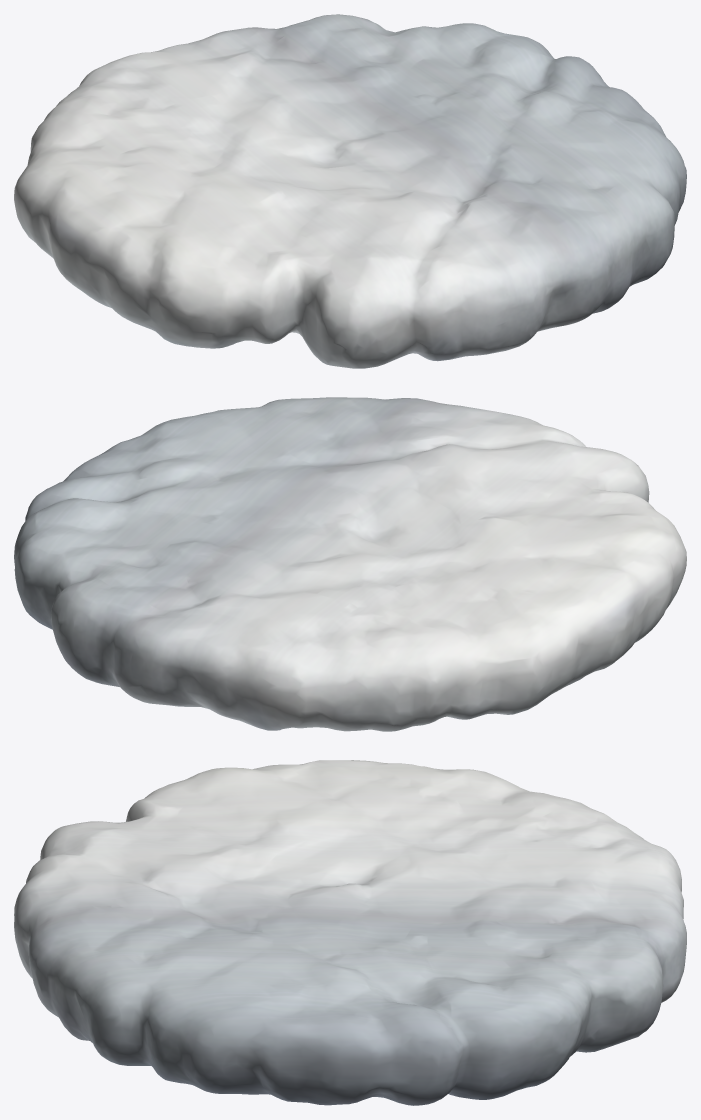
Rendered from 雲四版.fbx.
The picture shows the model from 3 angles, top to bottom: view 1: azimuth 30°, elevation 25°; view 2: azimuth 150°, elevation 25°; view 3: azimuth 270°, elevation 25°; orthographic projection. The views are drawn at different scales.
Visible parts, largest first — view 1: Mesh_0; view 2: Mesh_0; view 3: Mesh_0.
Part boxes in pixels (bbox=[...]): Mesh_0: bbox=[14, 14, 686, 368]; Mesh_0: bbox=[14, 397, 686, 731]; Mesh_0: bbox=[14, 760, 686, 1105].
Size of the model in its own units: 98.92 by 100 by 18.05.
1 material, 1 textured.
